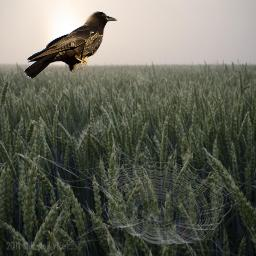Crow: (24, 9, 119, 81)
